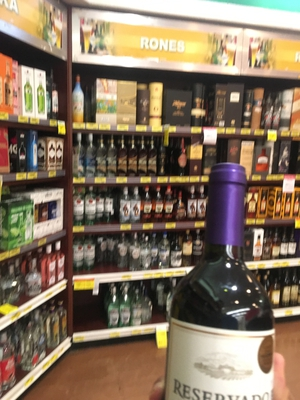reservado merlot: (153, 156, 275, 400)
